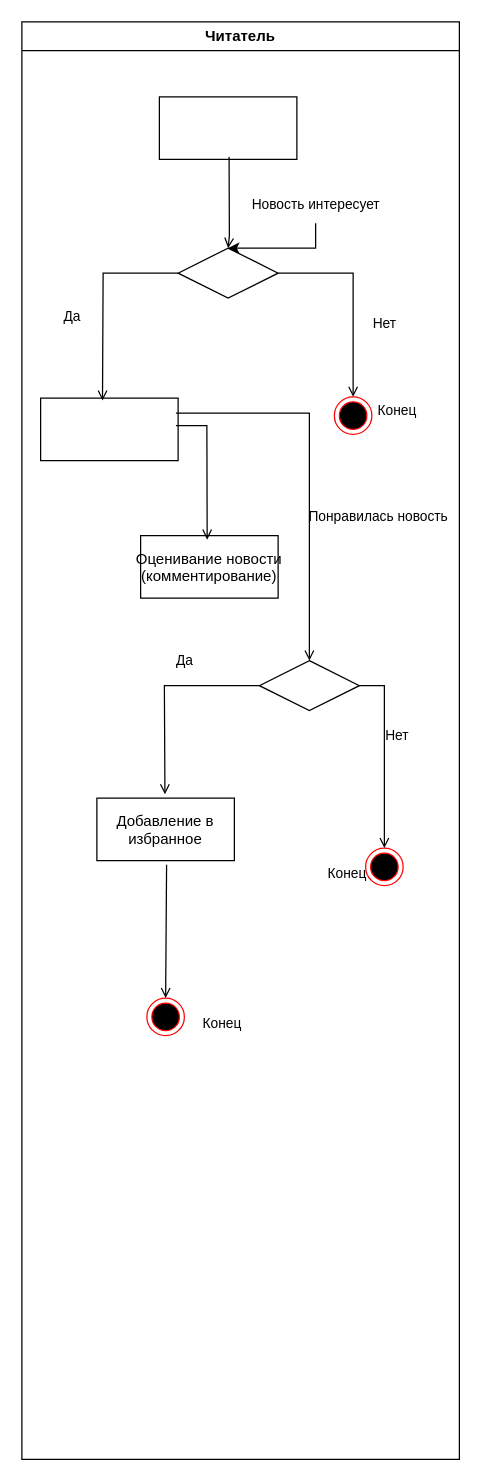
Some shapes in this 481 by 1481 pixel diagram are drawn without their labels. The shapes that lost their labels are listed below. From the top down, each one's box as (x1, y1, x2, y2) in pixels, then its label:
(158, 96, 297, 159): Оповещение о новой новости
(39, 397, 178, 461): Чтение новости
